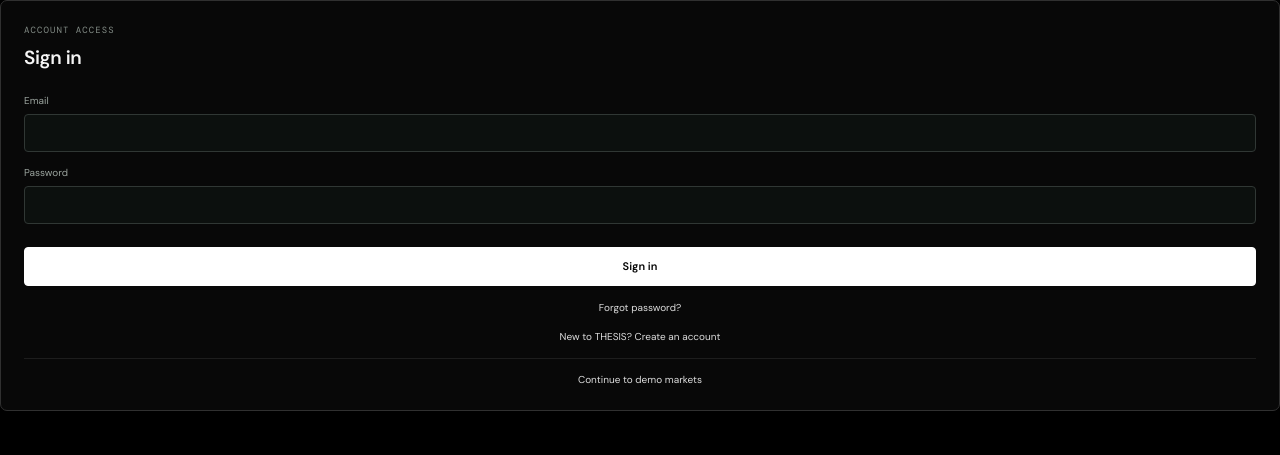
Test: AuthForm › shows a safe invalid-credentials message
Type "trader@example.com" into the field labelled "Email" at (640, 132), box [24, 114, 1256, 152]
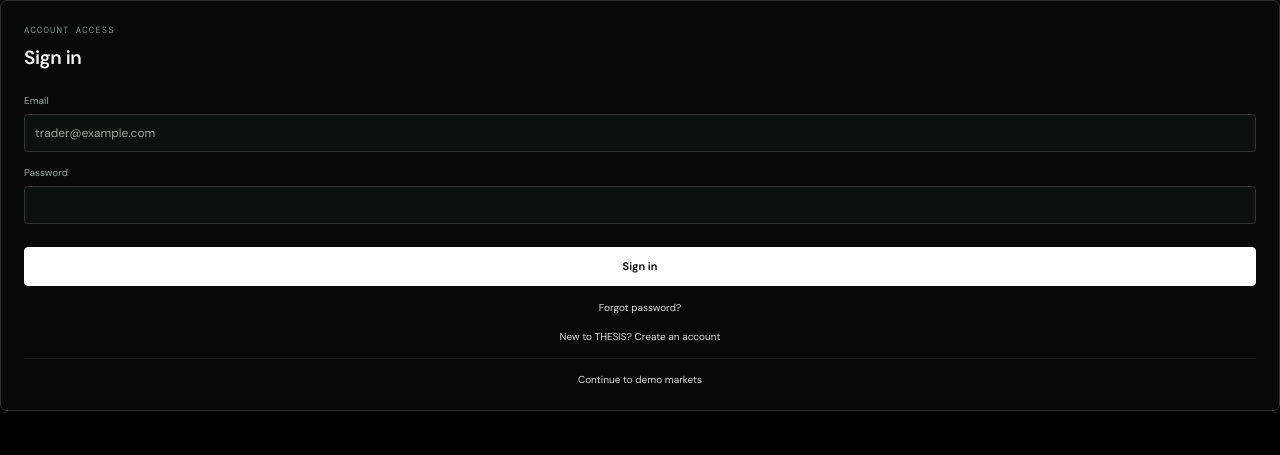
Type "correct-horse-42" into the password field labelled "Password" at (640, 204), box [24, 186, 1256, 224]
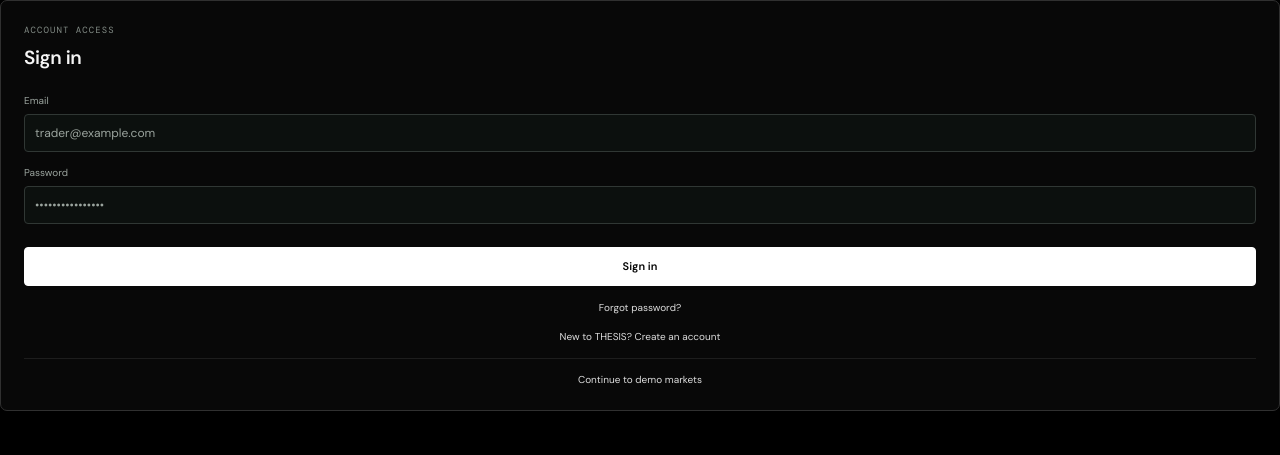
Submit the form labelled "Email", box [24, 92, 1256, 286]
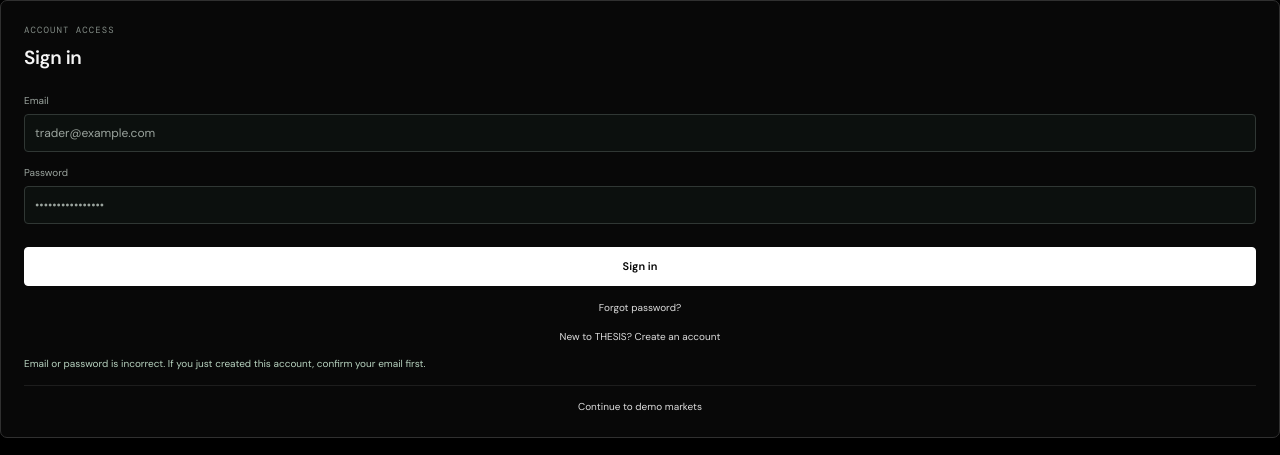
Expected: the text "Email or password is incorrect" is shown, [24, 356, 426, 370]
